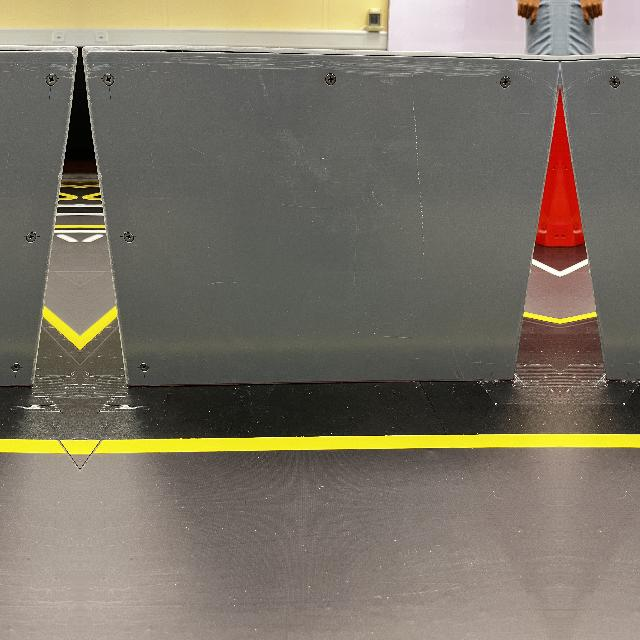obstacle: (80, 45, 560, 398), (0, 44, 80, 397), (560, 44, 640, 397)
